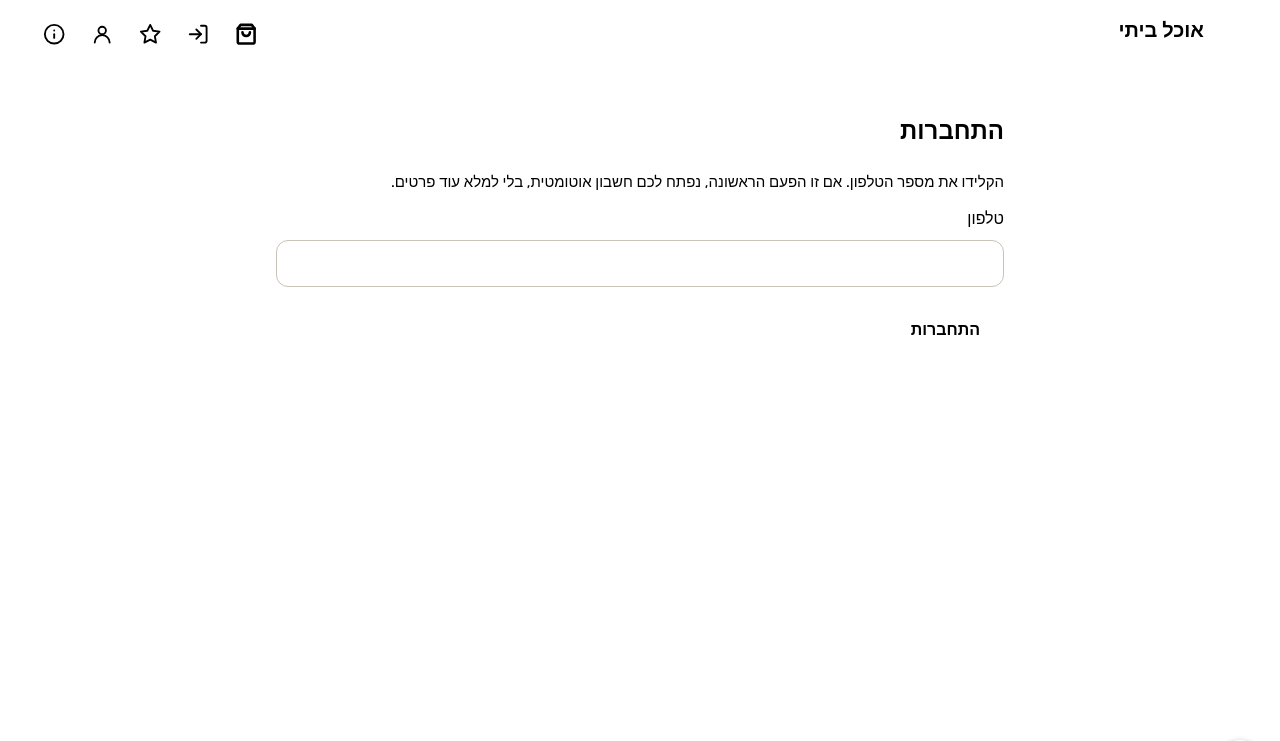
Login › saves the details of the optional form, and leaves the address out while the street is empty
The width and height of the screenshot is (1280, 741).
Expected: the heading "התחברות" is shown, [900,117,1004,145]
Type "050-123-4567" into the field labelled "טלפון" at (640,264), box [276,240,1004,287]
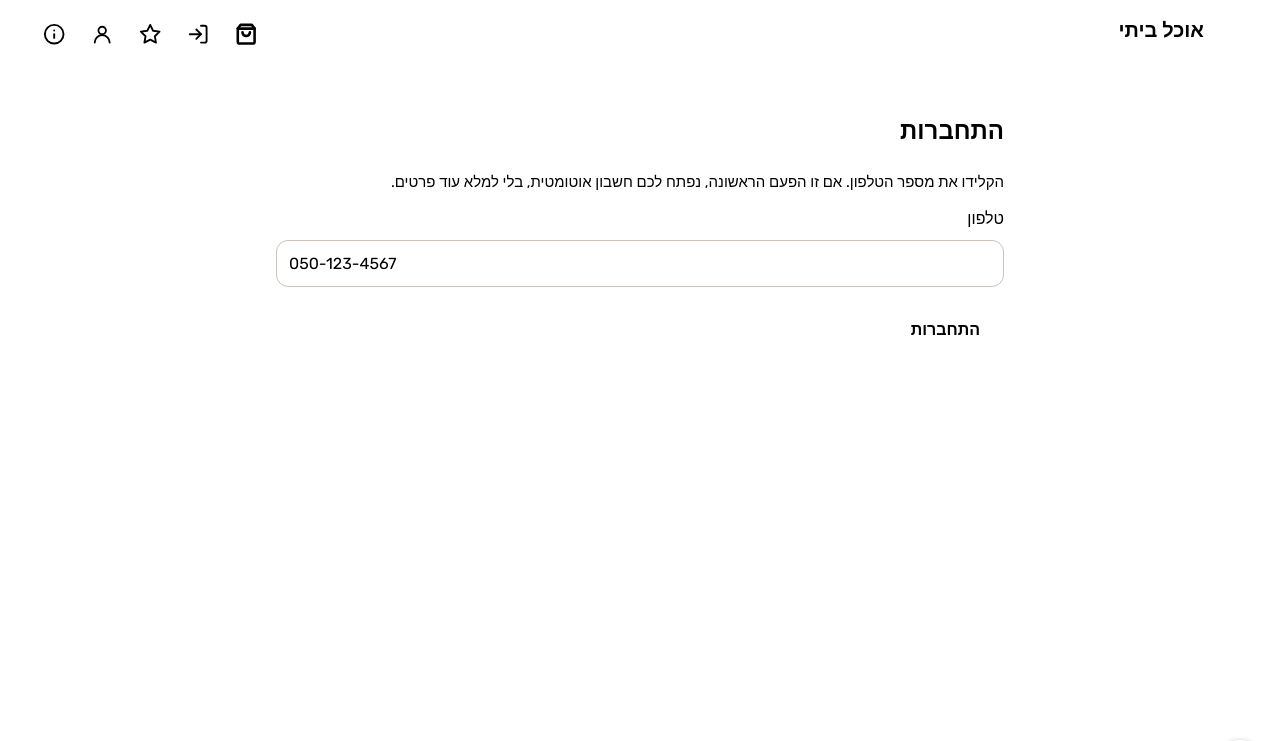
Click the button "התחברות" at (945,330), box [891,307,1000,353]
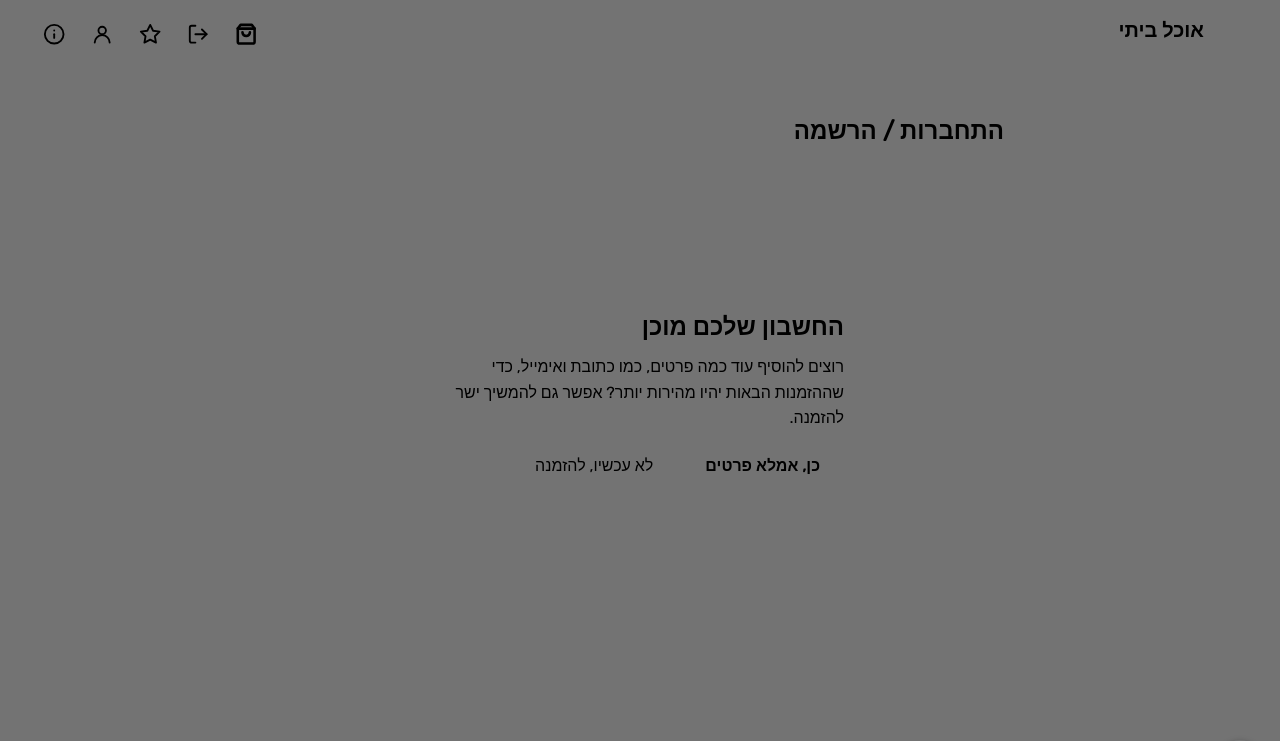
Click the button "כן, אמלא פרטים" at (763,466), box [685,443,840,488]
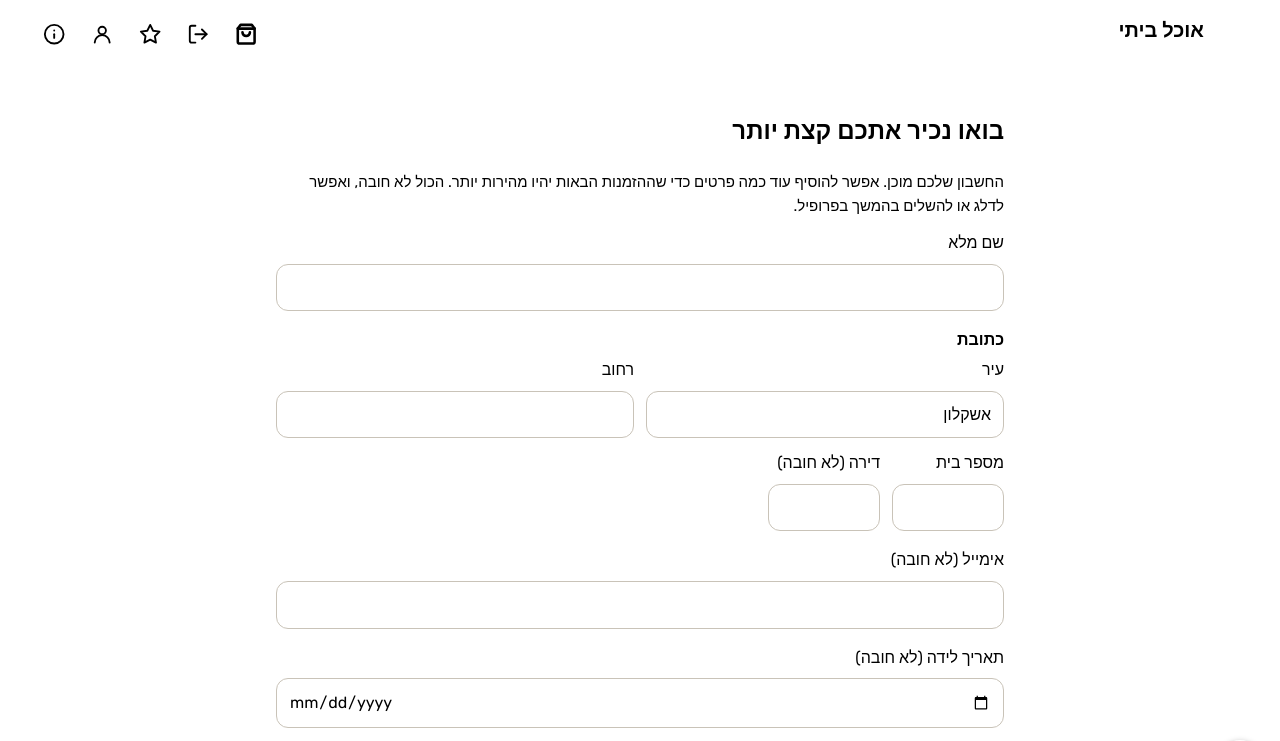
Now the heading "בואו נכיר אתכם קצת יותר" is shown, box [732,117,1004,145]
Type "דנה" into the field labelled "שם מלא" at (640,288), box [276,264,1004,311]
(page scrolled)
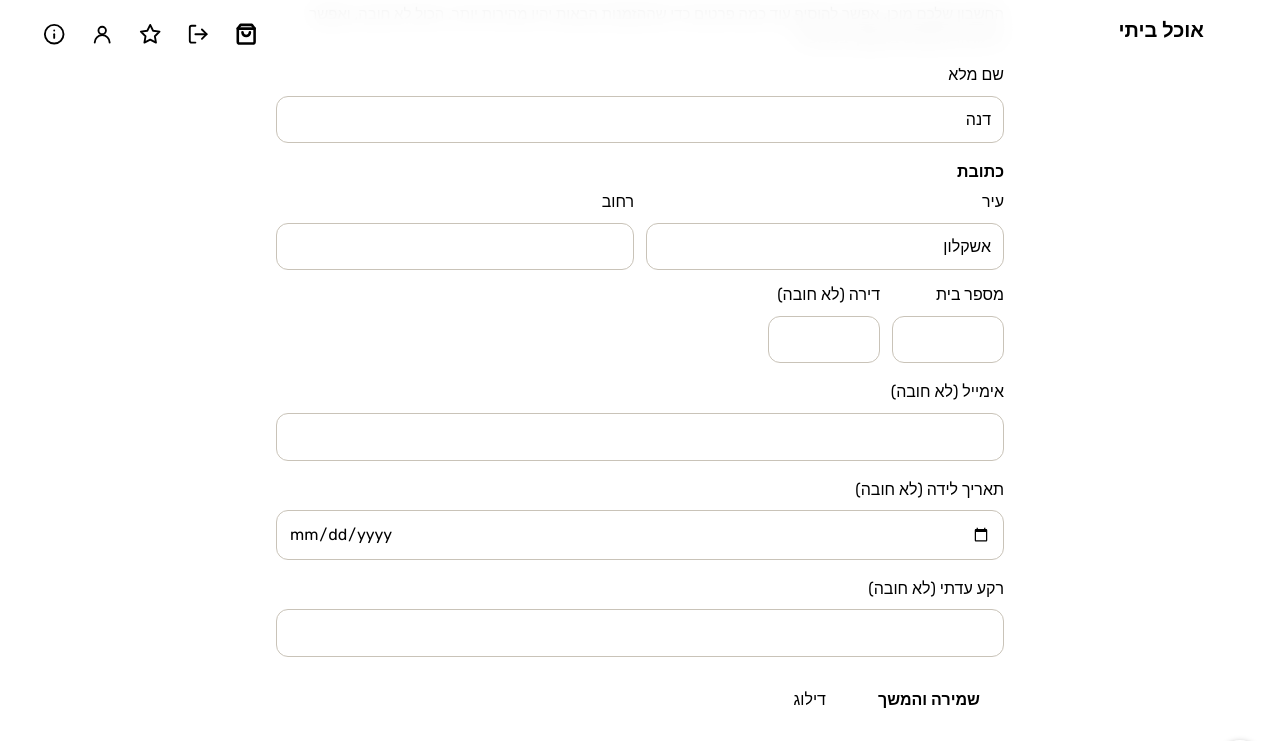
Click the button "שמירה והמשך" at (929,700), box [858,677,1000,722]
(page scrolled)
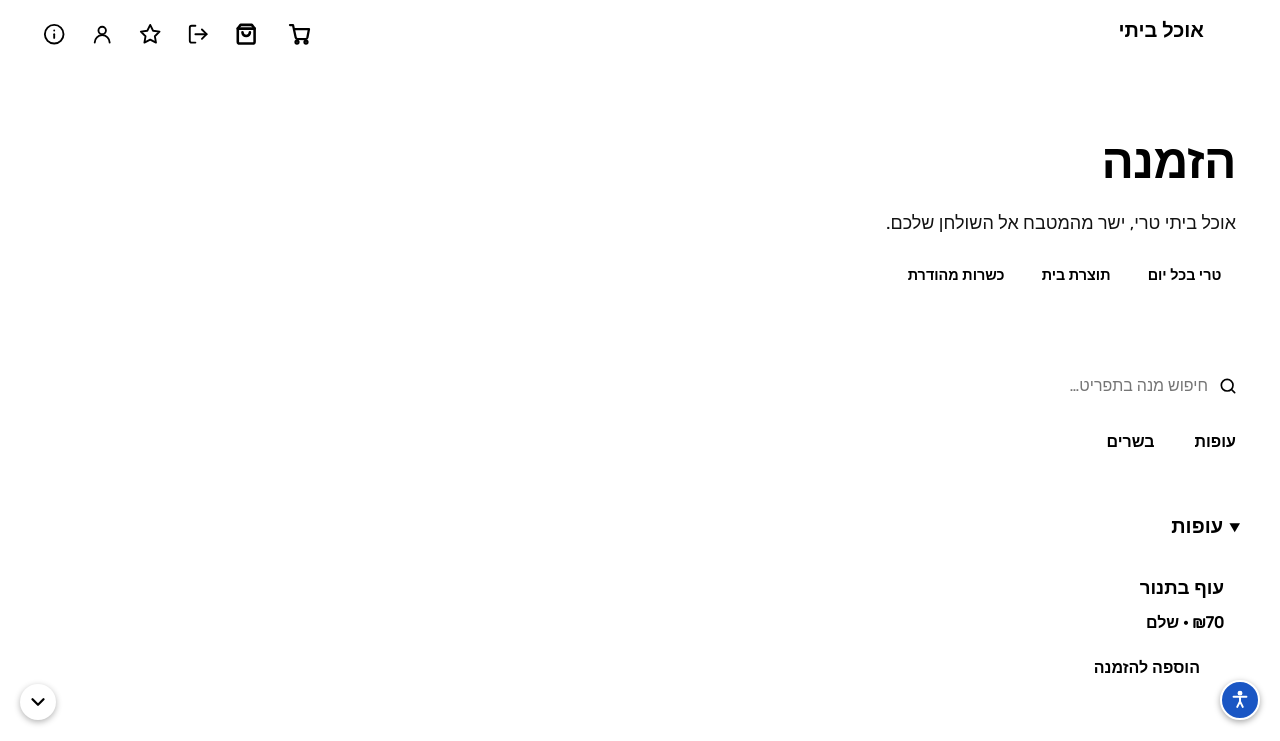
Now the heading "הזמנה" is shown, box [1101,124,1236,201]
